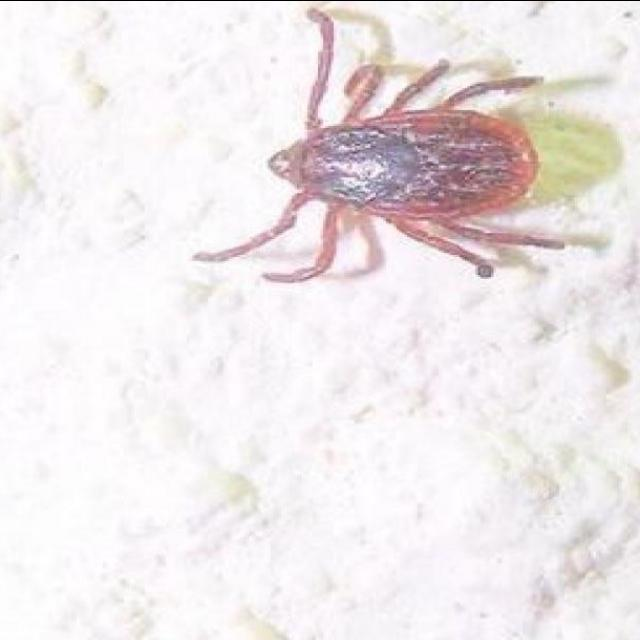Rhipicephalus Sanguineus-F: (195, 8, 564, 284)
